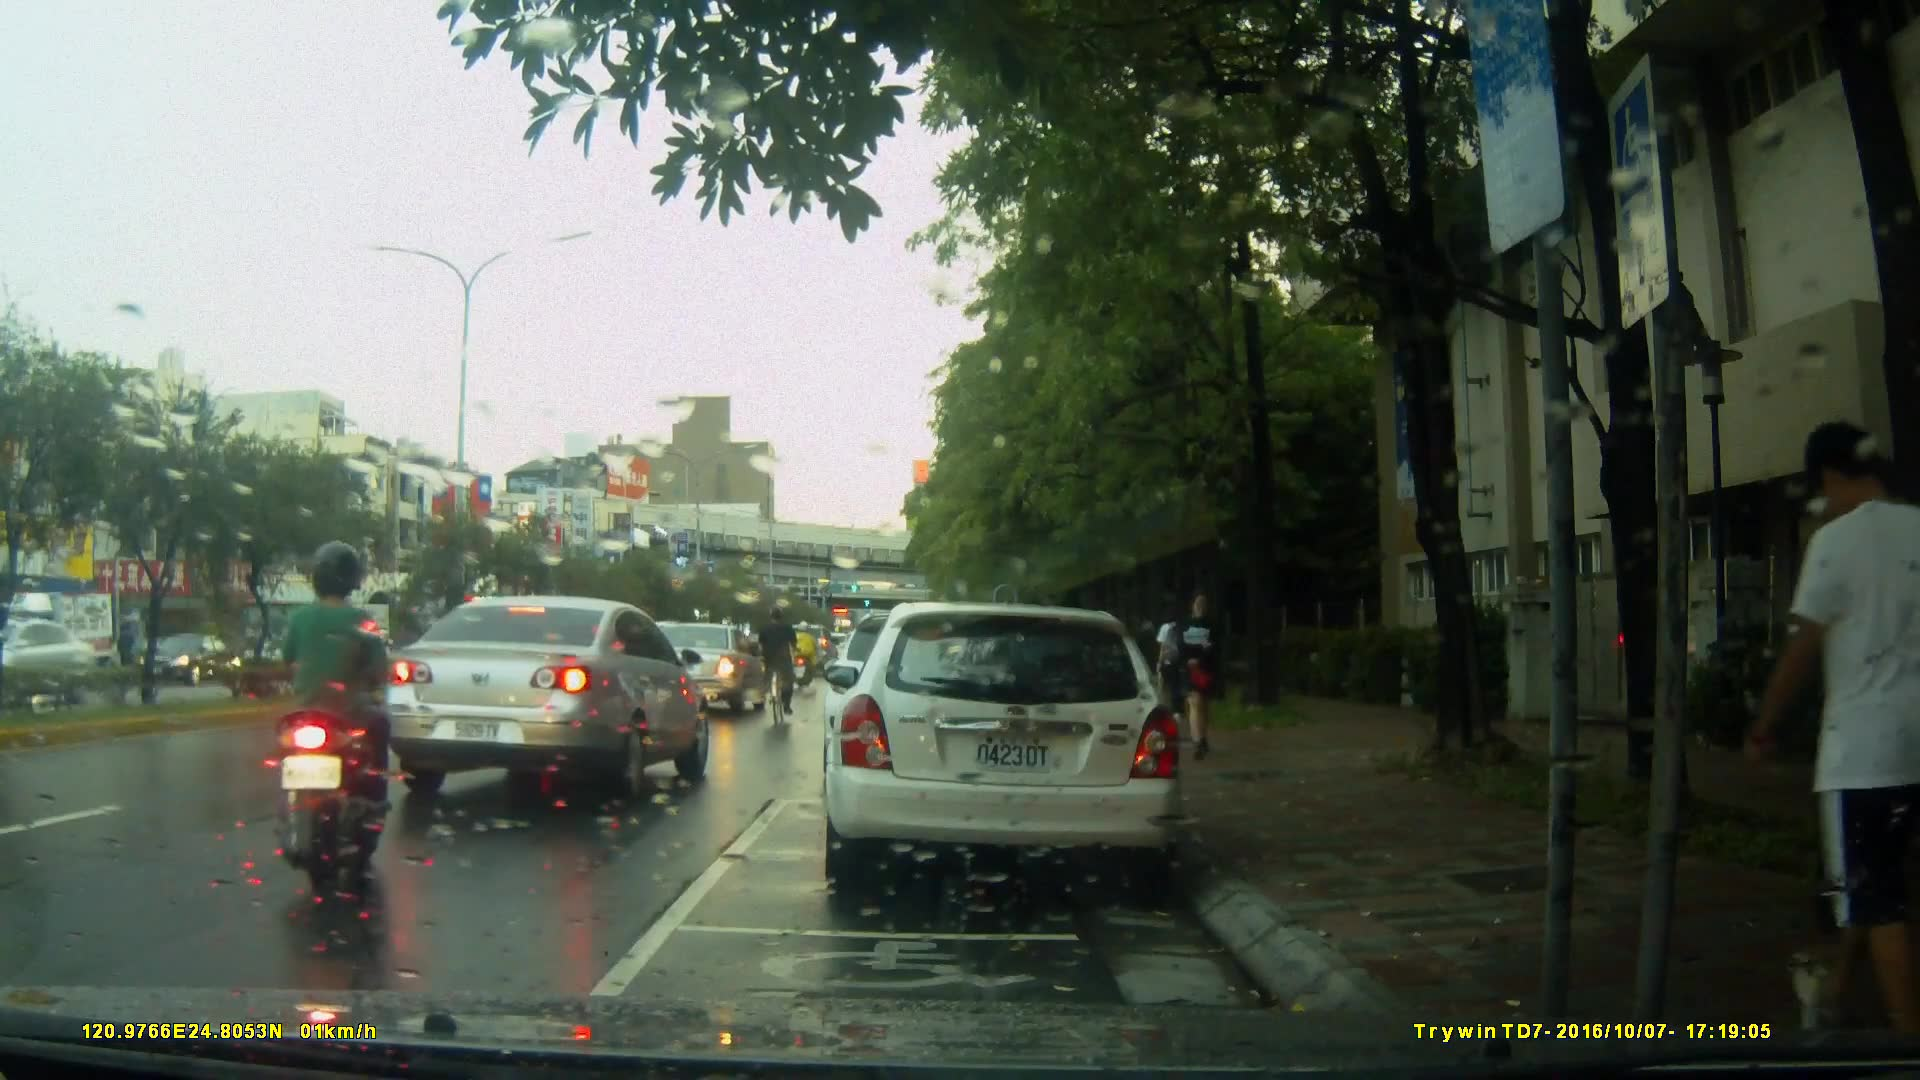pedestrian: (1777, 403, 1920, 1055), (1169, 592, 1227, 756), (1145, 604, 1193, 732)
rider: (263, 539, 380, 923), (756, 607, 798, 739), (793, 615, 823, 693)
vehicle: (820, 602, 1188, 898), (383, 593, 716, 807), (1, 587, 129, 699), (624, 623, 770, 719), (1, 622, 106, 704)
